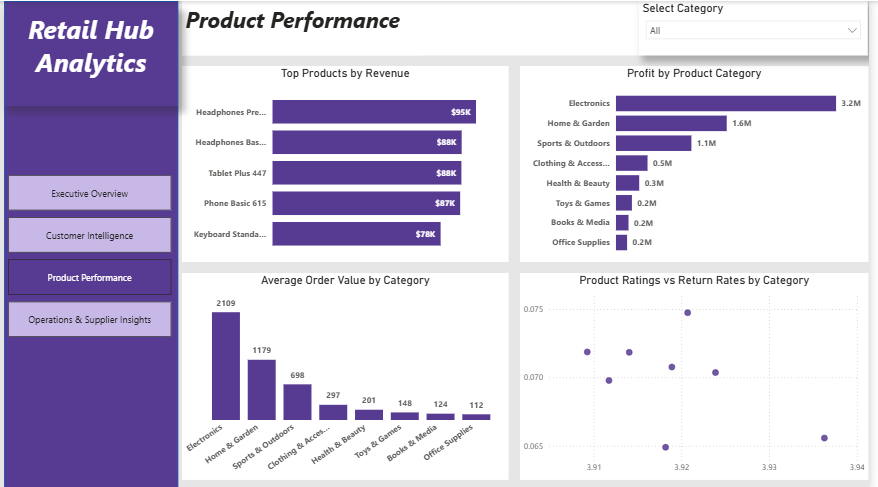

The page's visual inventory and layout, read from the dashboard file:
{"tool":"powerbi","page":{"name":"Product Performance","canvas":[1280,720],"ordinal":2},"visuals":[{"type":"clusteredBarChart","title":"Top Products by Revenue","fields":{"Category":["products.product_name"],"Y":["_Measures.Total Revenue (Non-Cancelled)"]},"box":[272,96,480,288],"z":0},{"type":"clusteredBarChart","title":"Profit by Product Category","fields":{"Category":["categories.category_name"],"Y":["_Measures.Profit"]},"box":[768,96,512,288],"z":1000},{"type":"clusteredColumnChart","title":"Average Order Value by Category","fields":{"Category":["categories.category_name"],"Y":["_Measures.Category AOV"]},"box":[272,400,480,304],"z":2000},{"type":"scatterChart","title":"Product Ratings vs Return Rates by Category","fields":{"X":["_Measures.Avg Rating"],"Y":["_Measures.Return Rate %"],"Category":["categories.category_name"]},"box":[768,400,512,304],"z":3000},{"type":"shape","box":[272,0,1008,80],"z":3001},{"type":"textbox","box":[272,0,352,80],"z":3006},{"type":"shape","box":[10,0,256,720],"z":3007},{"type":"textbox","box":[10,10,256,144],"z":3008},{"type":"pageNavigator","box":[16,256,240,240],"z":3009},{"type":"slicer","title":"Select Category","fields":{"Values":["categories.category_name"]},"box":[944,0,336,80],"z":3010}]}

Visuals, with their boxes in screenshot pixels (x1, y1, x2, y2), scaled from the page's 1280x720 canvas onto the 878x487 screenshot:
"Top Products by Revenue" clusteredBarChart: BBox(187, 65, 516, 260)
"Profit by Product Category" clusteredBarChart: BBox(527, 65, 877, 260)
"Average Order Value by Category" clusteredColumnChart: BBox(187, 271, 516, 476)
"Product Ratings vs Return Rates by Category" scatterChart: BBox(527, 271, 877, 476)
shape: BBox(187, 0, 877, 54)
textbox: BBox(187, 0, 428, 54)
shape: BBox(7, 0, 182, 486)
textbox: BBox(7, 7, 182, 104)
pageNavigator: BBox(11, 173, 176, 335)
"Select Category" slicer: BBox(648, 0, 877, 54)
